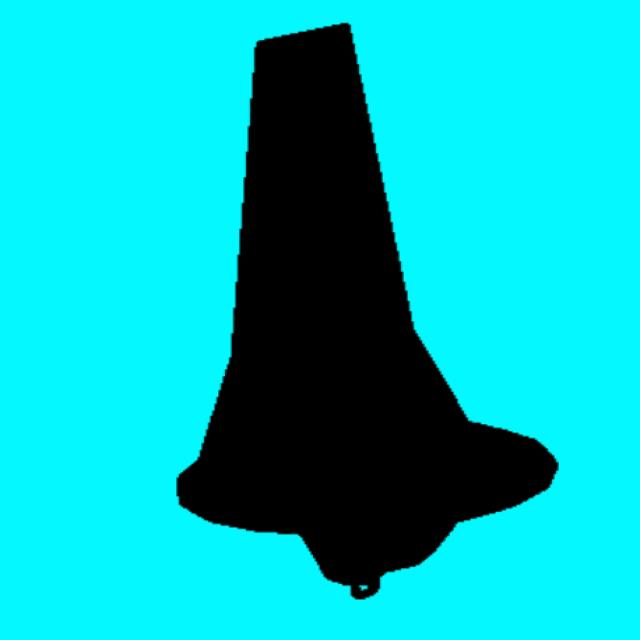BlackBuoy: (176, 24, 558, 599)
